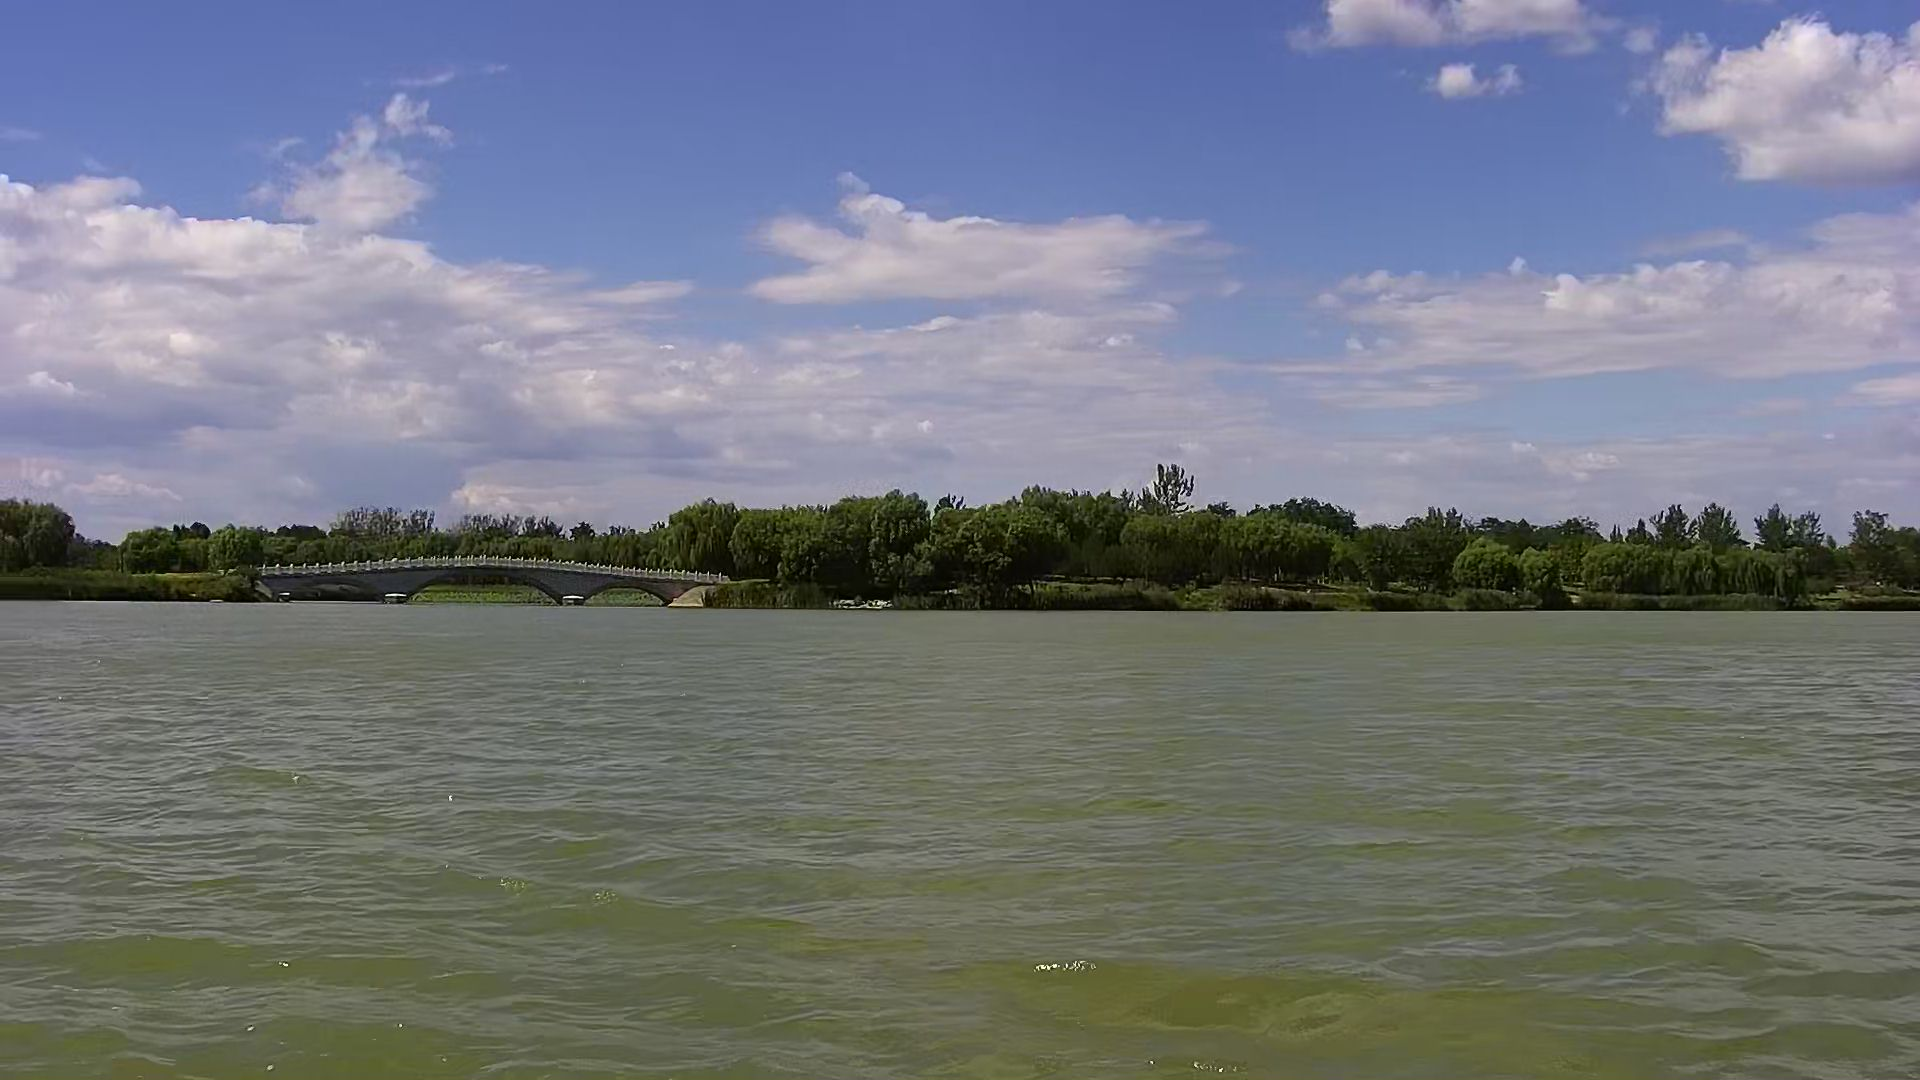bridge: (255, 551, 735, 618)
